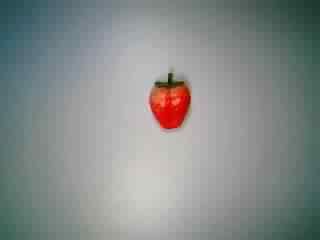strawberry: (138, 65, 198, 133)
